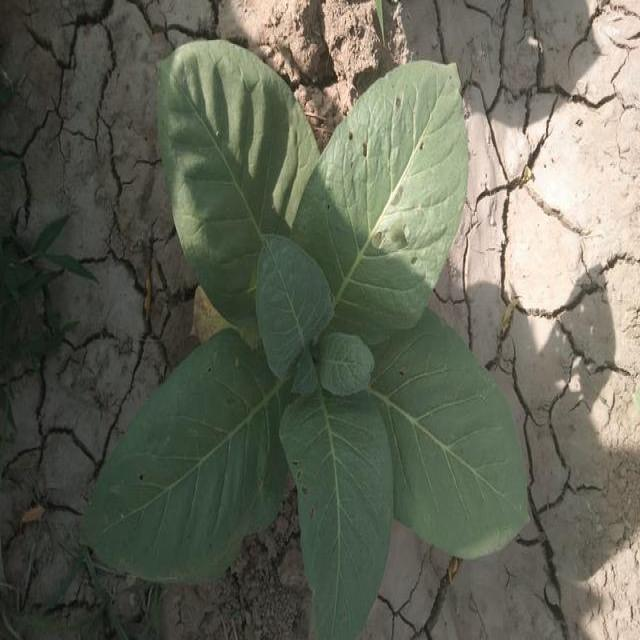crop: (83, 39, 532, 640)
